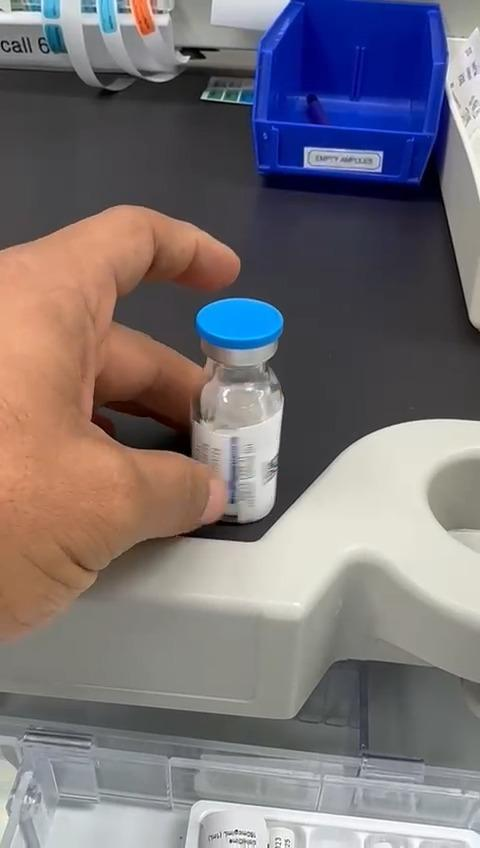cefazolin: (192, 298, 283, 523)
